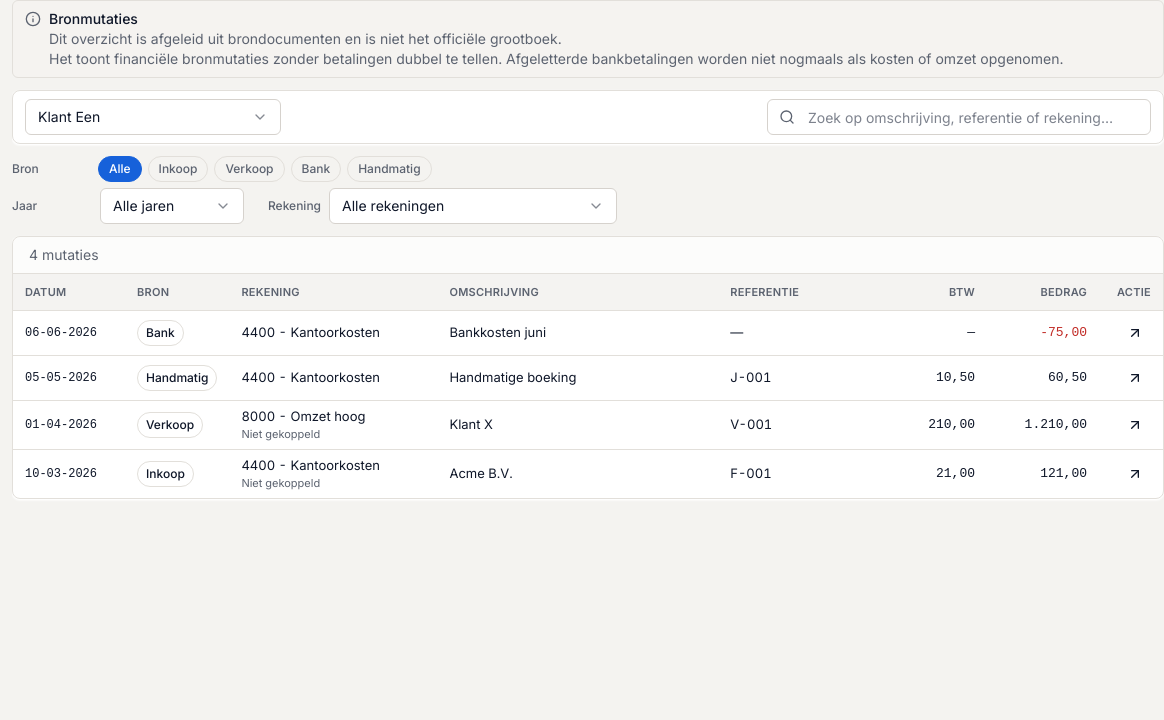
Scenario: Grootboekmutaties — filters › 36. zoekt over omschrijving, referentie en rekeninglabel
Type "acme" into the field with placeholder "Zoek op omschrijving, referentie of rekening…". click: (959, 117)
box: [767,99,1151,135]
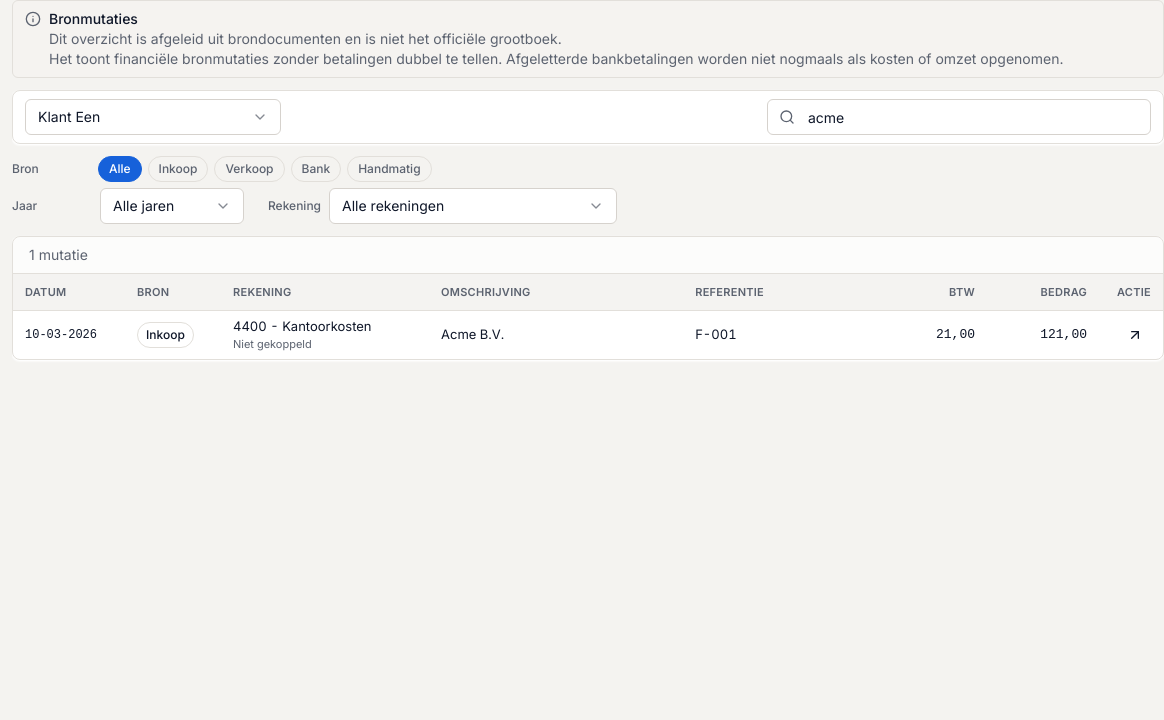
Expected: the text "Acme B.V." is shown, [429,310,683,358]
Now the text "Klant X" is gone
Replace the text in the field with placeholder "Zoek op omschrijving, referentie of rekening…" with "V-001". click: (959, 117)
box: [767,99,1151,135]
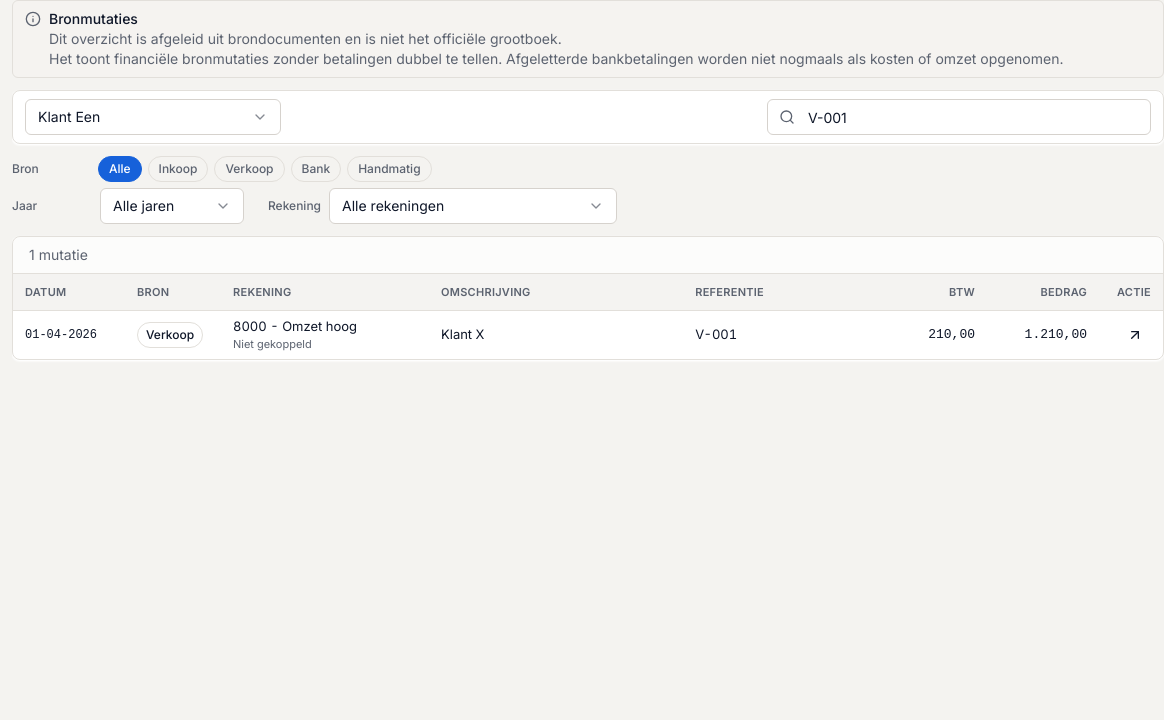
Now the text "Klant X" is shown, box [429,310,683,358]
